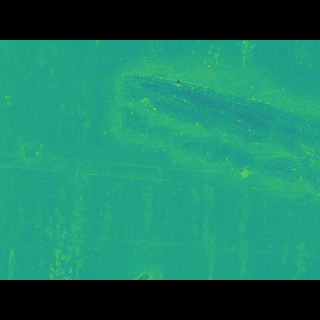Loch: (102, 82, 319, 194)
